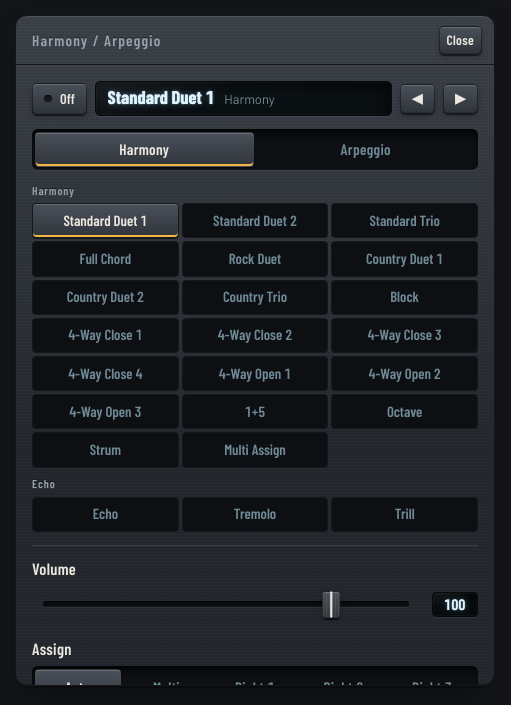
Test case: Harmony/Arpeggio drawer › ◀ ▶ step through both lists as one
Click the button "◀". click: {"x": 417, "y": 98}
box: [400,84,435,113]
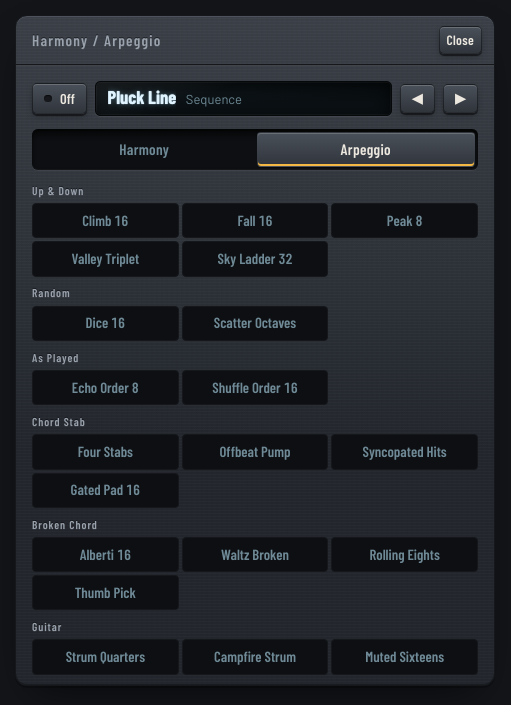
Click the button "▶". click: {"x": 460, "y": 98}
box: [443,84,478,113]
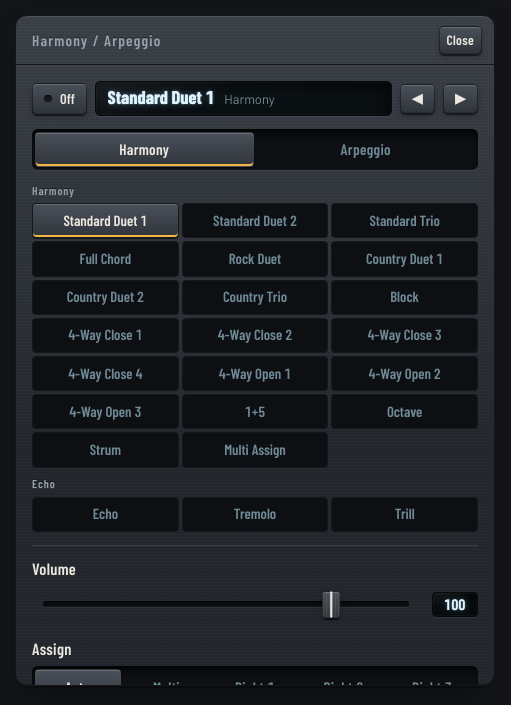
Result: the text "Standard Duet 1" is shown at [108,85,215,110]
